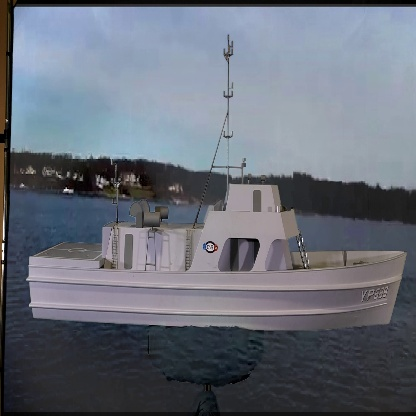YP689: (26, 34, 408, 330)
